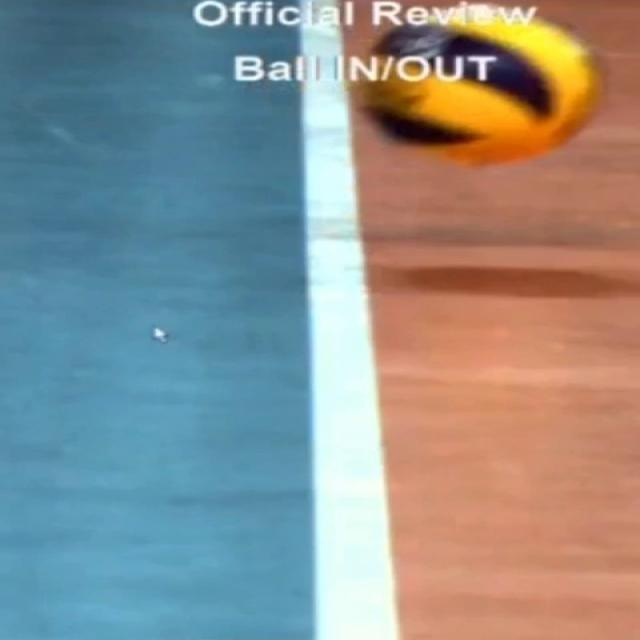Volleyball: (358, 6, 604, 163)
